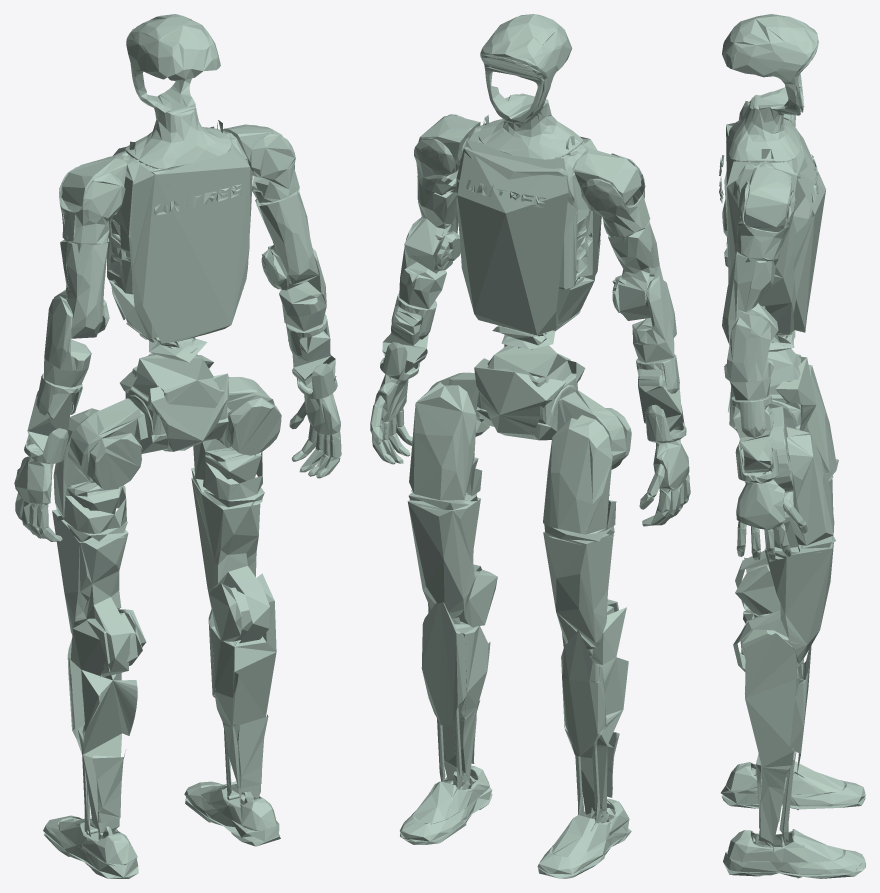
Rendered from cass.glb.
3 views of the same model, side by side, from view 1: azimuth 30°, elevation 25°; view 2: azimuth 150°, elevation 25°; view 3: azimuth 270°, elevation 25° (orthographic). The views are drawn at different scales.
Visible parts, largest first — view 1: body16_16, body16_18, body5_5, body10_10, body11_11, body4_4, body2_2, body1_0, body3_3, body26_29, body19_21, body13_13 (+19 smaller); view 2: body16_16, body16_18, body5_5, body11_11, body10_10, body3_3, body9_9, body4_4, body1_1, body13_13, body7_7, body26_29 (+19 smaller); view 3: body16_18, body11_11, body16_16, body10_10, body13_13, body9_9, body7_7, body30_34, body27_30, body26_29, body24_27, body4_4 (+9 smaller).
Boxes of the visible parts, x1=… form: body16_16: x1=107, y1=120, x2=252, y2=343; body16_18: x1=125, y1=14, x2=231, y2=168; body5_5: x1=67, y1=620, x2=137, y2=836; body10_10: x1=191, y1=467, x2=269, y2=643; body11_11: x1=208, y1=573, x2=276, y2=804; body4_4: x1=52, y1=509, x2=146, y2=677; body2_2: x1=68, y1=398, x2=148, y2=489; body1_0: x1=125, y1=354, x2=228, y2=453; body3_3: x1=53, y1=408, x2=126, y2=533; body26_29: x1=255, y1=191, x2=318, y2=290; body19_21: x1=54, y1=239, x2=109, y2=338; body13_13: x1=184, y1=781, x2=280, y2=846; body16_16: x1=456, y1=115, x2=601, y2=335; body16_18: x1=478, y1=14, x2=582, y2=159; body5_5: x1=561, y1=607, x2=628, y2=823; body11_11: x1=421, y1=602, x2=490, y2=789; body10_10: x1=407, y1=492, x2=497, y2=627; body3_3: x1=543, y1=415, x2=616, y2=534; body9_9: x1=409, y1=382, x2=482, y2=500; body4_4: x1=543, y1=524, x2=618, y2=657; body1_1: x1=474, y1=344, x2=585, y2=439; body13_13: x1=400, y1=765, x2=492, y2=844; body7_7: x1=537, y1=798, x2=631, y2=878; body26_29: x1=404, y1=180, x2=460, y2=273; body16_18: x1=722, y1=14, x2=818, y2=162; body11_11: x1=744, y1=633, x2=811, y2=844; body16_16: x1=724, y1=119, x2=825, y2=335; body10_10: x1=733, y1=536, x2=835, y2=671; body13_13: x1=723, y1=829, x2=865, y2=878; body9_9: x1=773, y1=426, x2=834, y2=548; body7_7: x1=721, y1=761, x2=865, y2=809; body30_34: x1=736, y1=479, x2=807, y2=561; body27_30: x1=724, y1=314, x2=774, y2=400; body26_29: x1=722, y1=251, x2=778, y2=344; body24_27: x1=744, y1=167, x2=791, y2=231; body4_4: x1=735, y1=459, x2=838, y2=615.
Size of the model in its own units: 0.5224 by 1.32 by 0.216.
